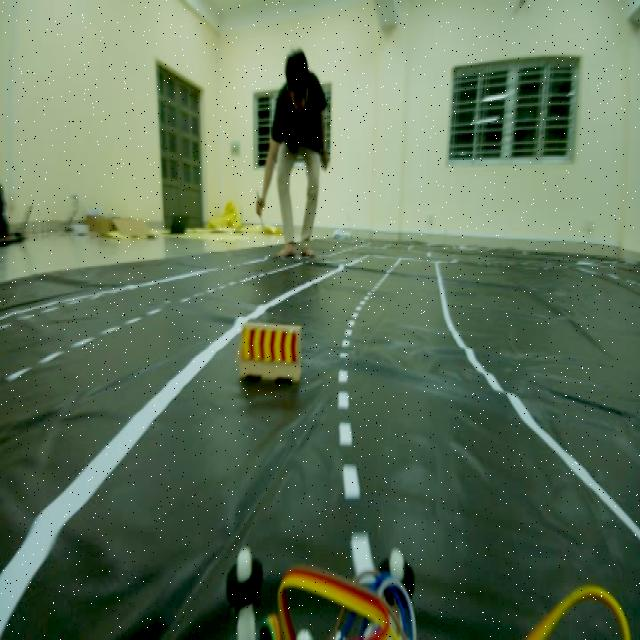roadblock: (237, 321, 307, 392)
